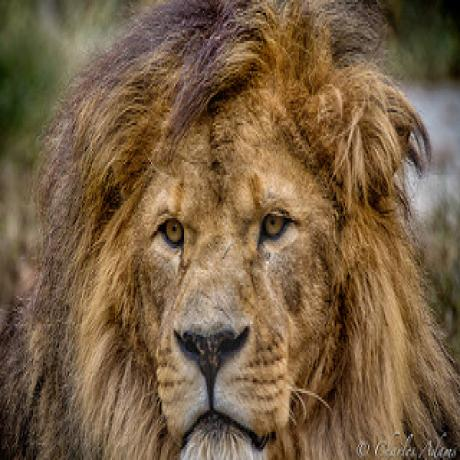Lion: (0, 0, 436, 460)
